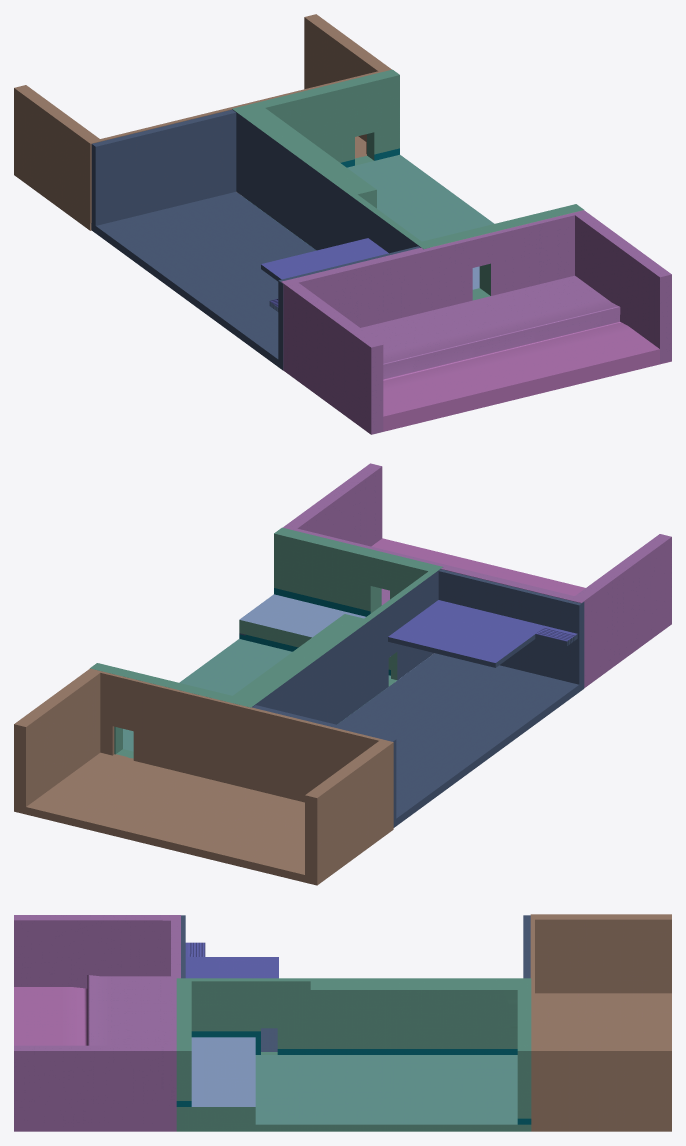
The model's file is rooms-transformed.glb.
3 renders of one model, top to bottom at view 1: azimuth 30°, elevation 25°; view 2: azimuth 150°, elevation 25°; view 3: azimuth 270°, elevation 25°, orthographic. The views are drawn at different scales.
Parts seen in each view (by area): view 1: polySurface1; view 2: polySurface1, polySurface7; view 3: polySurface1, polySurface7.
Boxes of the visible parts, x1,y1,x2,y2 form: polySurface1: [14, 14, 671, 434]; polySurface1: [14, 463, 671, 885]; polySurface7: [239, 594, 420, 678]; polySurface1: [14, 914, 671, 1131]; polySurface7: [191, 1037, 255, 1106].
Size of the model in its own units: 0.6186 by 0.1708 by 1.26.
Materials: 2 (2 with a texture image).
